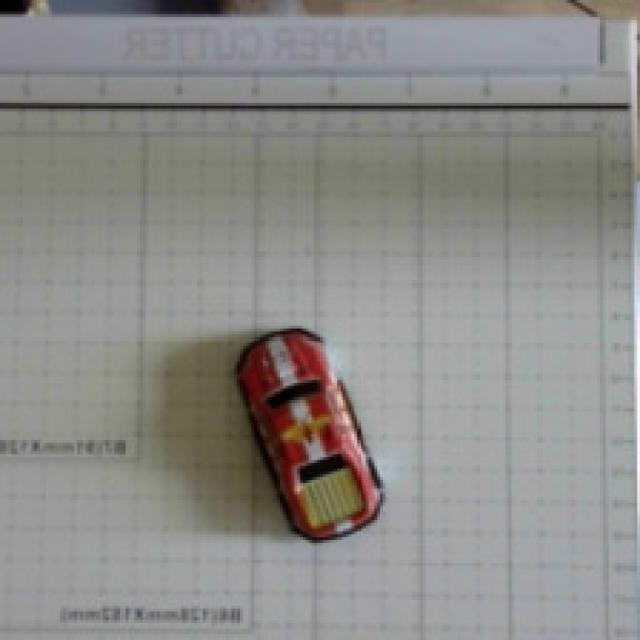Red Car: (193, 312, 429, 551)
